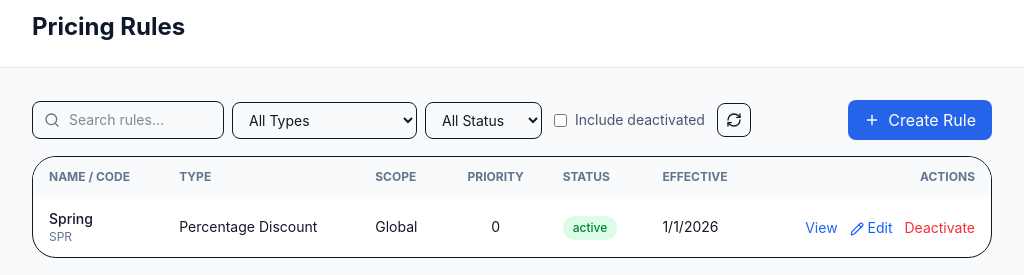
Test case: B3 — Clear filters › is hidden with no filters and resets every filter when used
The image size is (1024, 275).
Check: the text "Spring" is shown, box [49, 210, 93, 227]
Check: the button "Clear filters" is not shown
Type "spr" into the field labelled "Search rules".
click(128, 120); type("spr")  # box [32, 101, 224, 139]
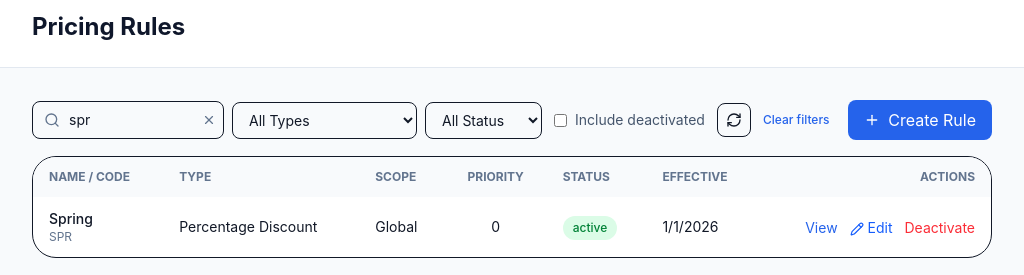
Select "Fixed Discount" in the dropdown named "Rule type" at [324, 120], box [232, 102, 417, 138]
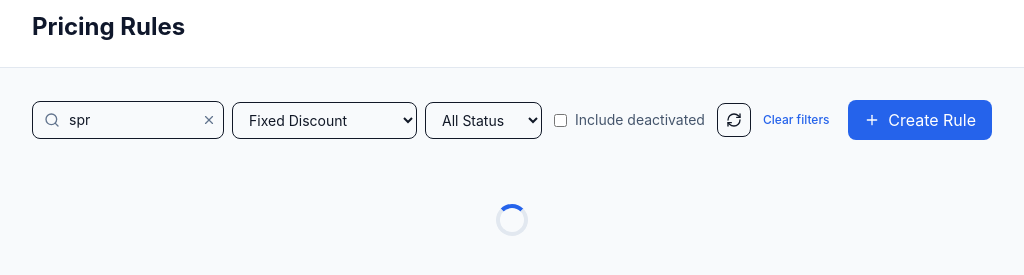
Select "Draft" in the dropdown named "Rule status" at [484, 120], box [425, 102, 542, 138]
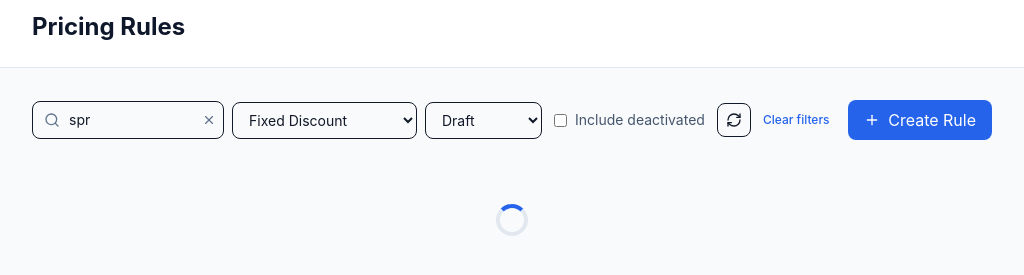
Click the checkbox labelled "Include deactivated".
click(560, 120)  # box [554, 114, 567, 126]
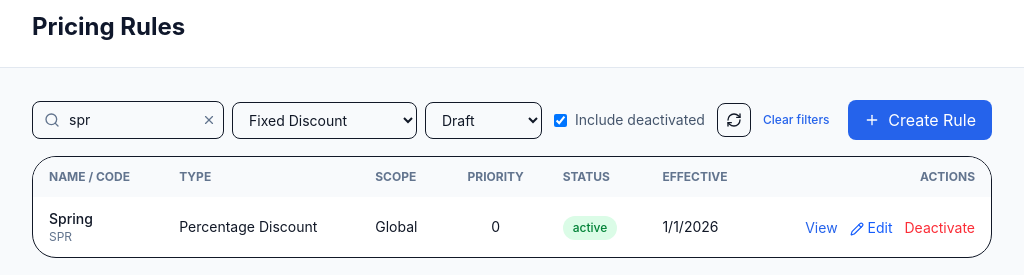
Click the button "Clear filters".
click(796, 120)  # box [759, 112, 834, 128]
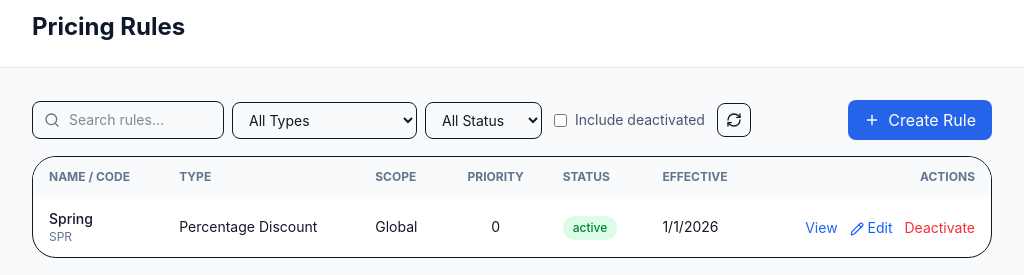
Check: the field labelled "Search rules" is empty, box [32, 101, 224, 139]
